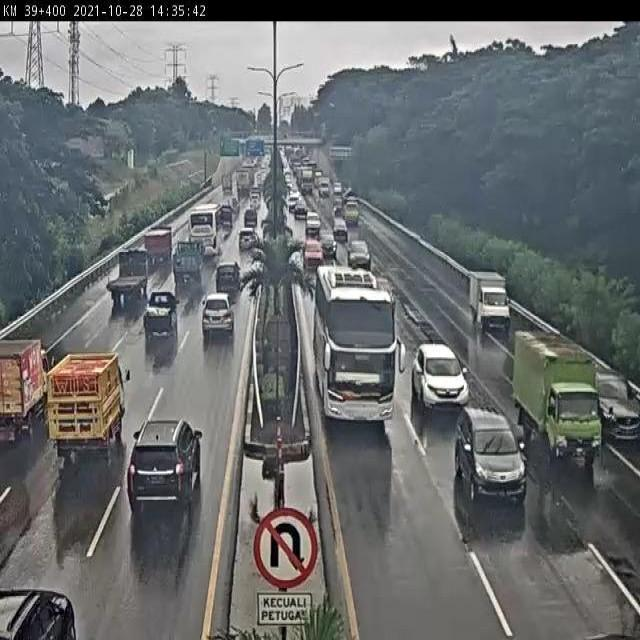big bus: (313, 265, 398, 424), (184, 206, 222, 258)
big truck: (235, 168, 253, 197)
car: (127, 418, 202, 514), (455, 403, 527, 501), (0, 588, 76, 640), (410, 341, 468, 404), (591, 376, 640, 437), (467, 270, 511, 330), (136, 300, 175, 356), (198, 303, 234, 349), (213, 261, 241, 299), (348, 239, 370, 264), (237, 228, 257, 253), (377, 276, 394, 299), (318, 229, 334, 252), (303, 238, 320, 258), (243, 211, 258, 229), (305, 212, 319, 229), (247, 193, 260, 210), (332, 219, 345, 236), (225, 198, 238, 214), (294, 203, 305, 216)
small truck: (514, 331, 603, 460), (49, 353, 126, 455), (0, 337, 49, 431), (108, 250, 152, 302), (168, 247, 201, 292), (140, 228, 171, 265), (341, 195, 361, 225), (218, 206, 232, 230)
